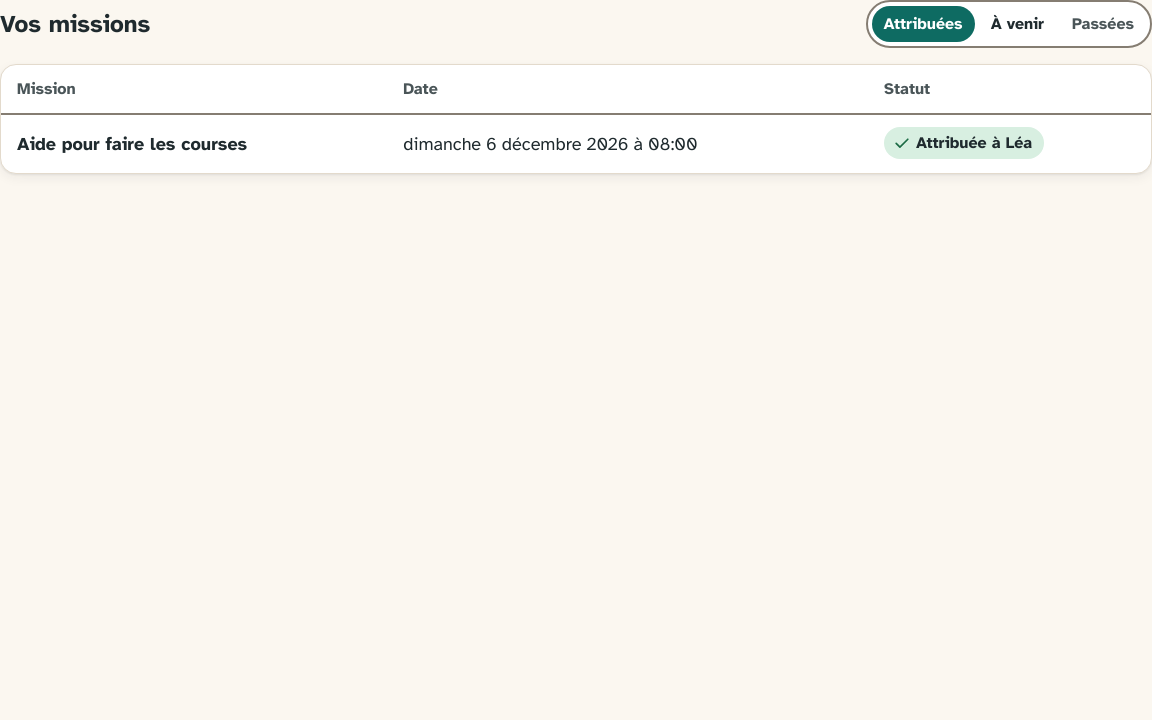
Test case: PublishedMissionList › shows the contact of the assigned student
The width and height of the screenshot is (1152, 720).
Expected: the table shows "Attribuée à Léa", [916, 133, 1032, 153]
What coordinates should you click on to do the following:
click the row that starts with "Aide pour faire les courses"
I would click on:
 (576, 144)
Its box is [1, 115, 1151, 173].
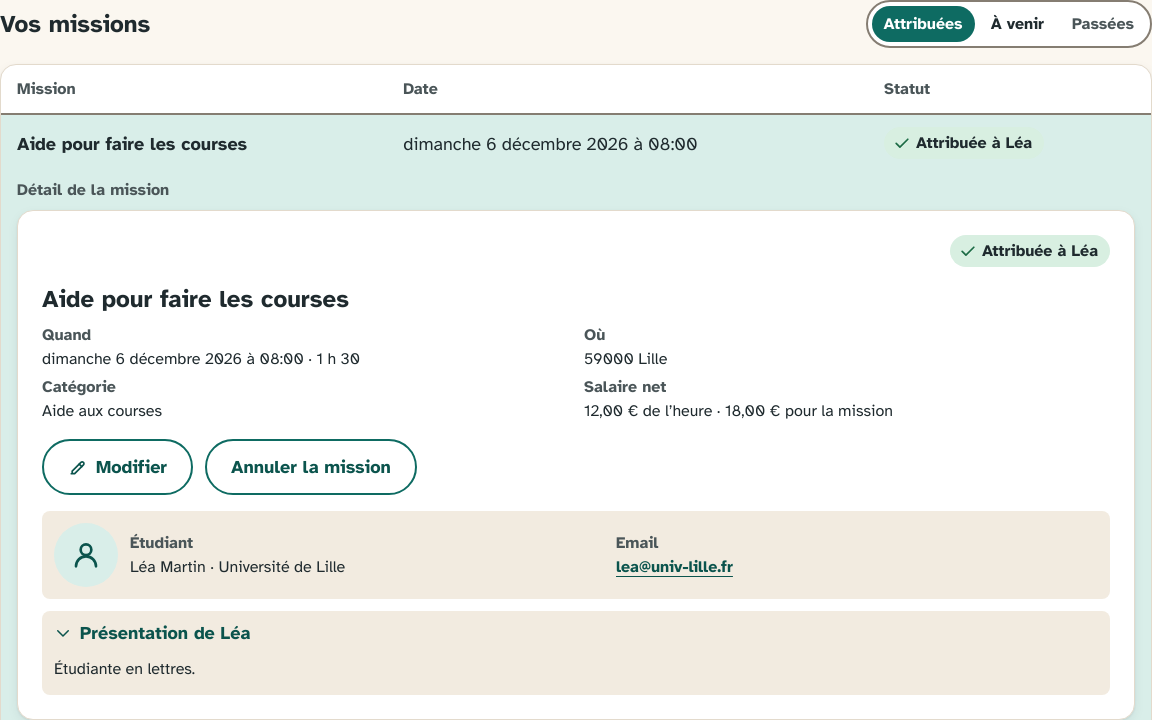
Expected: the text "Léa Martin" is shown, [130, 557, 345, 577]
Expected: the link to "mailto:lea@univ-lille.fr" is shown, [616, 557, 733, 577]
Expected: the heading "Présentation de Léa" is shown, [54, 622, 250, 644]
